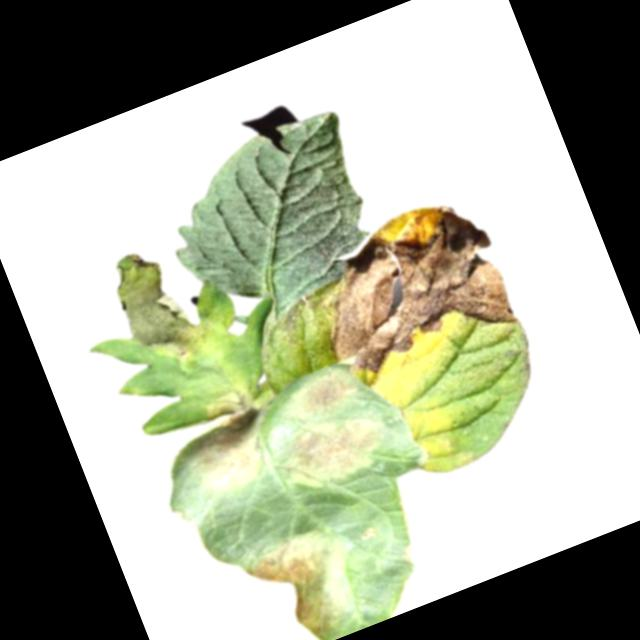Late_blight: (294, 186, 521, 387), (99, 237, 214, 379), (236, 520, 368, 640), (268, 397, 397, 501), (171, 400, 291, 504), (274, 360, 365, 430), (199, 382, 255, 423)
healthy: (144, 103, 398, 341)
